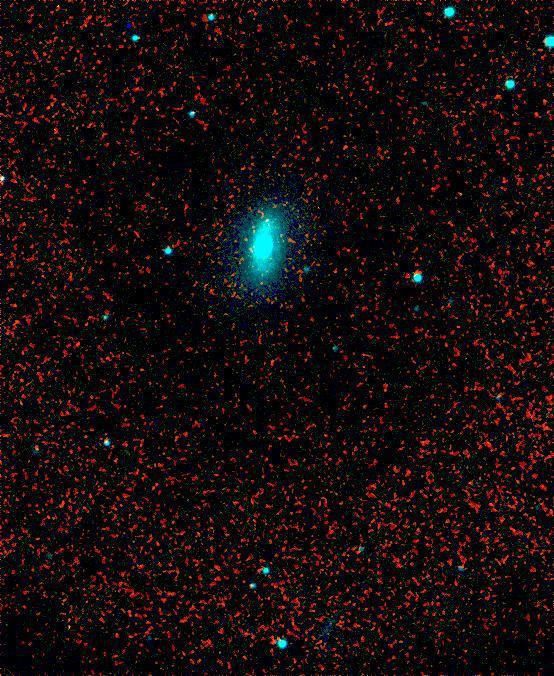star: (310, 189, 340, 219)
